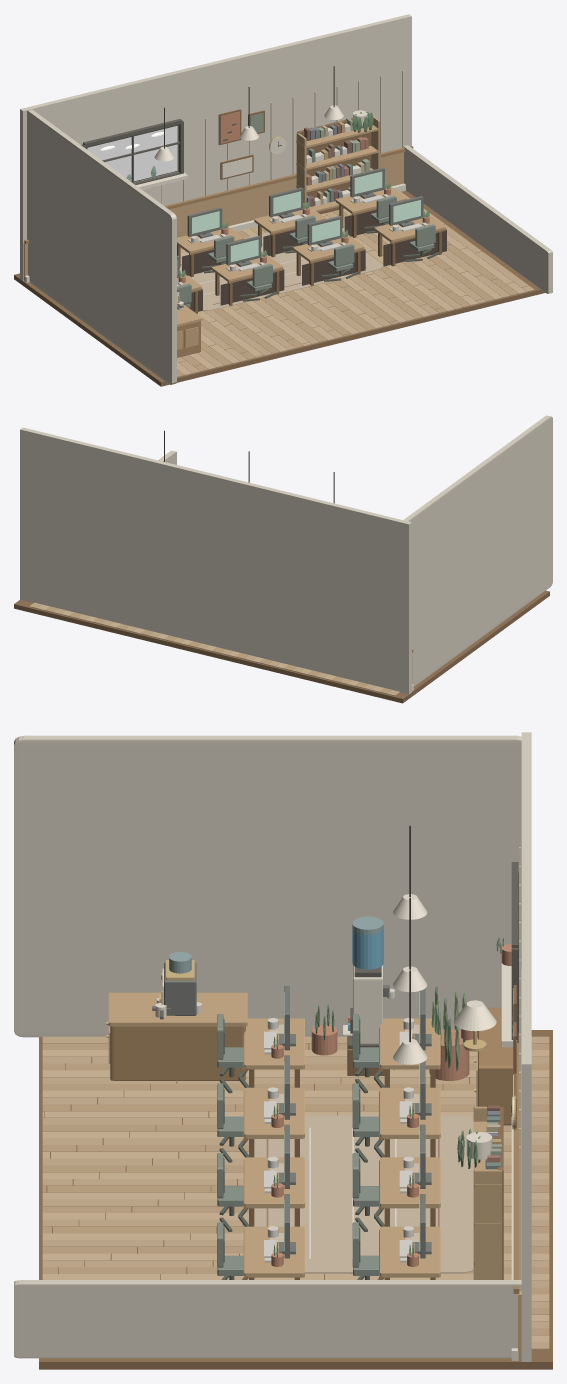
The model's file is office.glb.
3 renders of one model, top to bottom at view 1: azimuth 30°, elevation 25°; view 2: azimuth 150°, elevation 25°; view 3: azimuth 270°, elevation 25°, orthographic. The views are drawn at different scales.
Parts seen in each view (by area): view 1: back wall, left_wall, right_wall, floor, wainscot, window sky, rug, shelf back, Desk6_shadow, wainscot cap, Desk8_shadow, plank 45 (+56 smaller); view 2: back wall, left_wall, floor; view 3: left_wall, right_wall, rug, floor, back wall, coffee_corner, coffee_counter_top, shelf side 1, credenza, plank 9, plank 10, plank 8 (+47 smaller).
Boxes of the visible parts, <box> form: back wall: <box>20,14,411,281</box>; left_wall: <box>27,109,176,384</box>; right_wall: <box>403,145,552,293</box>; floor: <box>14,190,545,386</box>; wainscot: <box>23,152,403,280</box>; window sky: <box>87,126,177,181</box>; rug: <box>179,232,383,310</box>; shelf back: <box>297,114,371,214</box>; Desk6_shadow: <box>220,269,284,305</box>; wainscot cap: <box>24,145,413,243</box>; Desk8_shadow: <box>383,230,446,266</box>; plank 45: <box>399,191,534,291</box>; back wall: <box>20,427,411,694</box>; left_wall: <box>403,415,552,686</box>; floor: <box>14,590,549,703</box>; left_wall: <box>14,735,521,1037</box>; right_wall: <box>14,1280,521,1358</box>; rug: <box>254,1115,473,1273</box>; floor: <box>39,1030,552,1369</box>; back wall: <box>521,732,531,1361</box>; coffee_corner: <box>110,1026,245,1080</box>; coffee_counter_top: <box>108,992,247,1026</box>; shelf side 1: <box>473,1169,502,1279</box>; credenza: <box>478,1007,513,1125</box>; plank 9: <box>42,1097,549,1104</box>; plank 10: <box>42,1104,549,1111</box>; plank 8: <box>42,1090,549,1097</box>.
Bounding box in the file's own units: 11 × 5.15 × 7.55.
